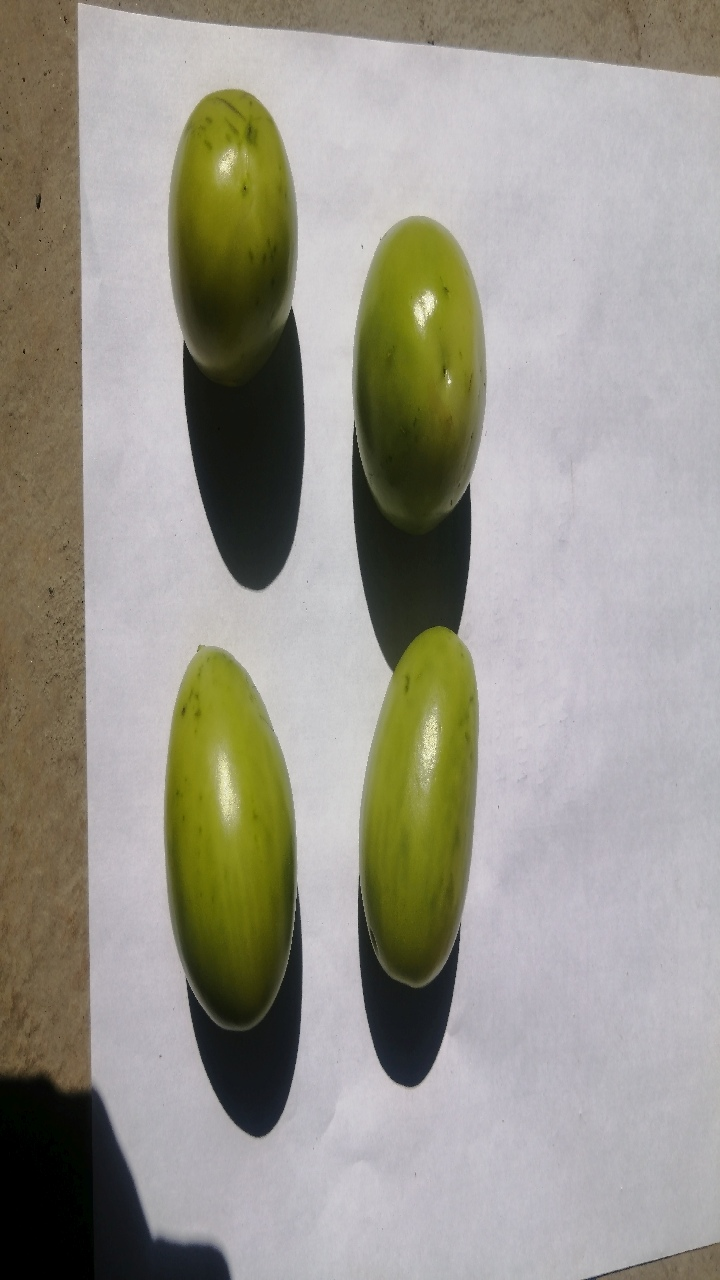tomateVerde: (129, 623, 344, 1072), (335, 602, 500, 1011), (337, 195, 511, 549), (154, 62, 337, 385)
